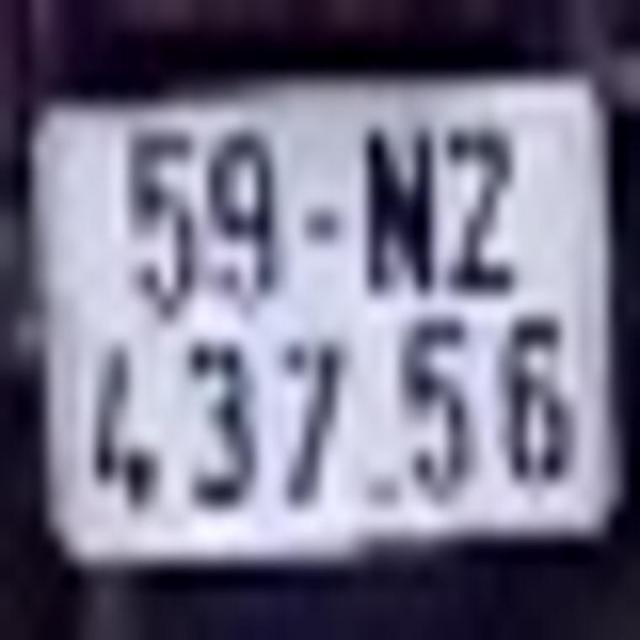3: (188, 332, 258, 510)
4: (90, 336, 160, 519)
5: (402, 313, 474, 511), (126, 130, 194, 321)
6: (504, 307, 572, 503)
7: (280, 329, 340, 522)
9: (208, 130, 276, 325)
N: (362, 127, 436, 304)
Z: (444, 128, 520, 298)
